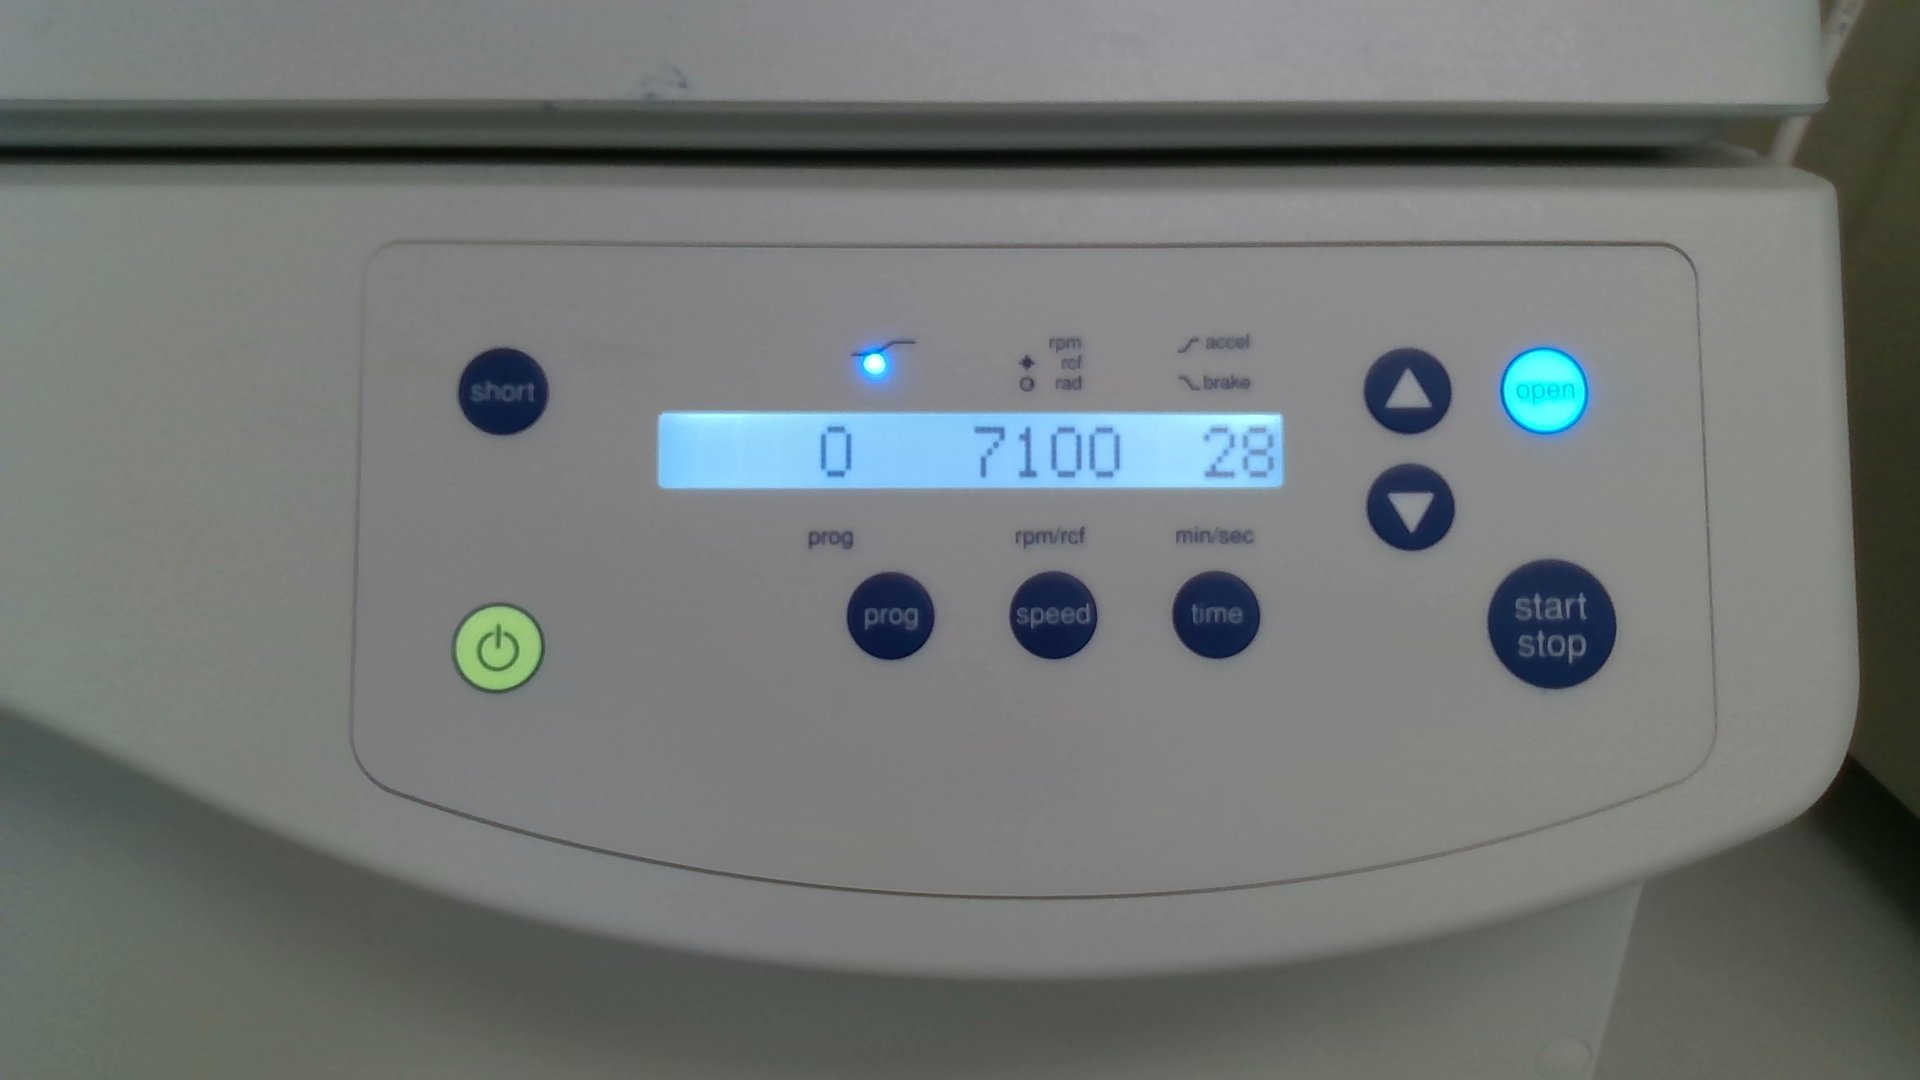0: (1051, 426, 1081, 477), (1089, 426, 1120, 477), (822, 426, 851, 477)
1: (1018, 426, 1036, 477)
2: (1204, 427, 1234, 479)
7: (975, 426, 1005, 477)
8: (1244, 427, 1273, 479)
open_on: (1501, 344, 1589, 436)
power_on: (451, 603, 545, 694)
